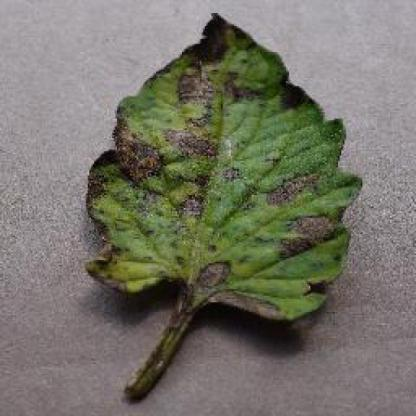Tomato_Blight: (86, 13, 361, 324)
